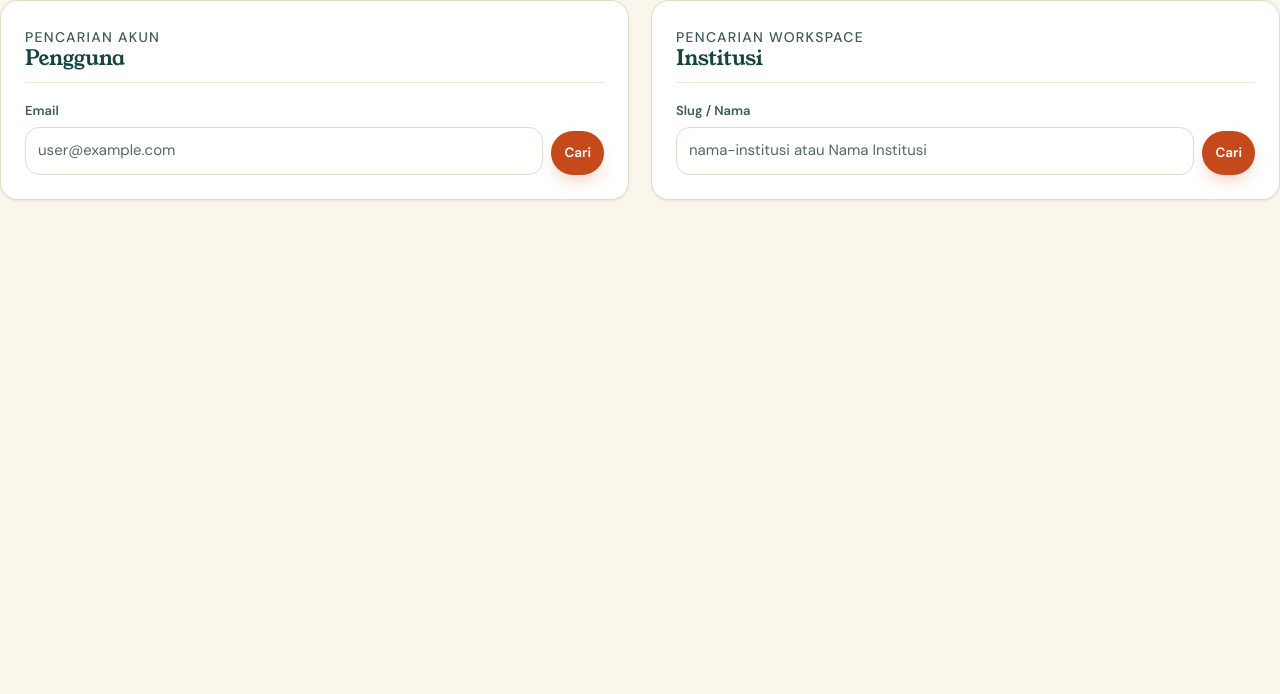
Test: elevating a recruiter to the full tier › names the consequence, then sends the elevation
This screenshot has width=1280, height=694.
Type "target@example.test" into the field labelled "Email" at (284, 151), box top-left (25, 127), bottom-right (543, 175)
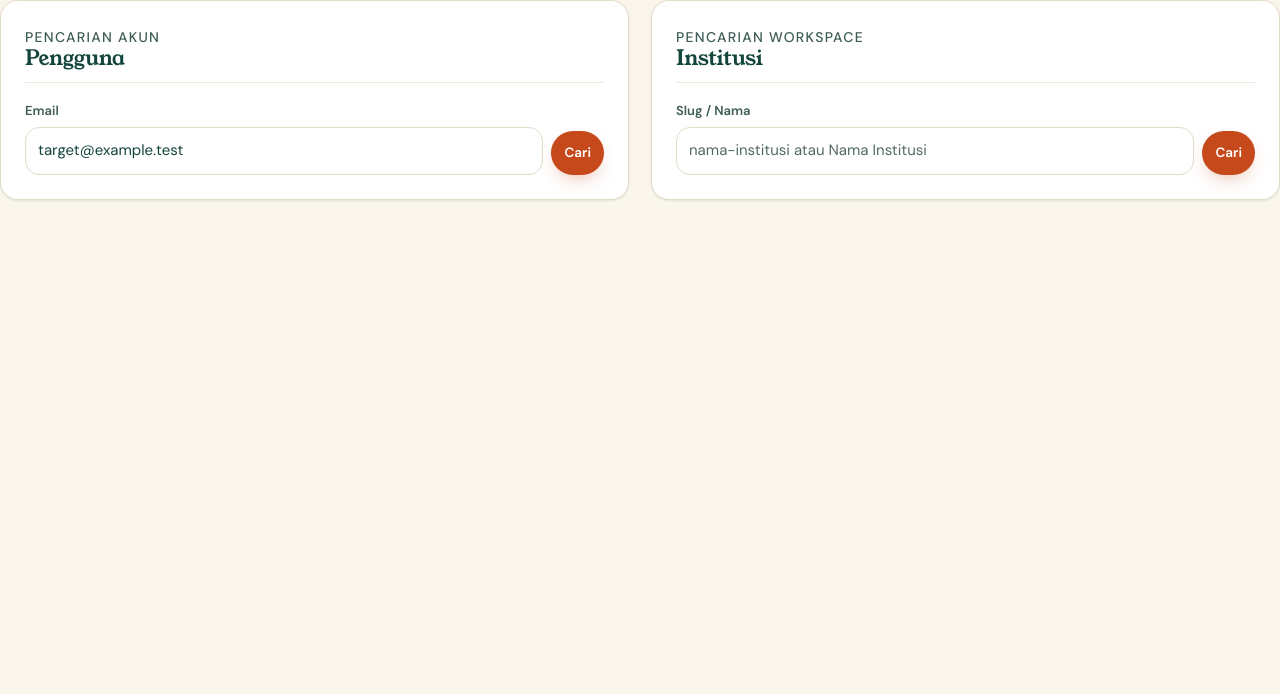
Click the 1st button "Cari" at (578, 153), box top-left (551, 131), bottom-right (604, 175)
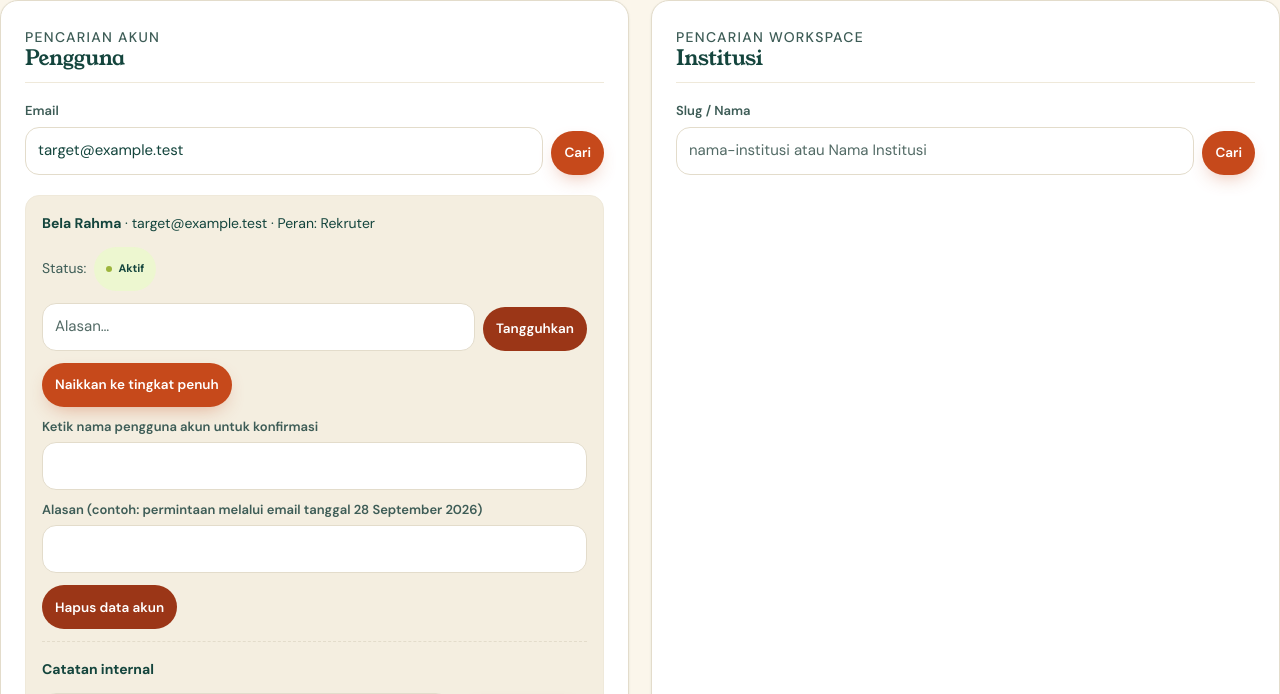
Now the text "Bela Rahma" is shown, box top-left (42, 214), bottom-right (121, 232)
Click the button "Naikkan ke tingkat penuh" at (137, 385), box top-left (42, 363), bottom-right (232, 407)
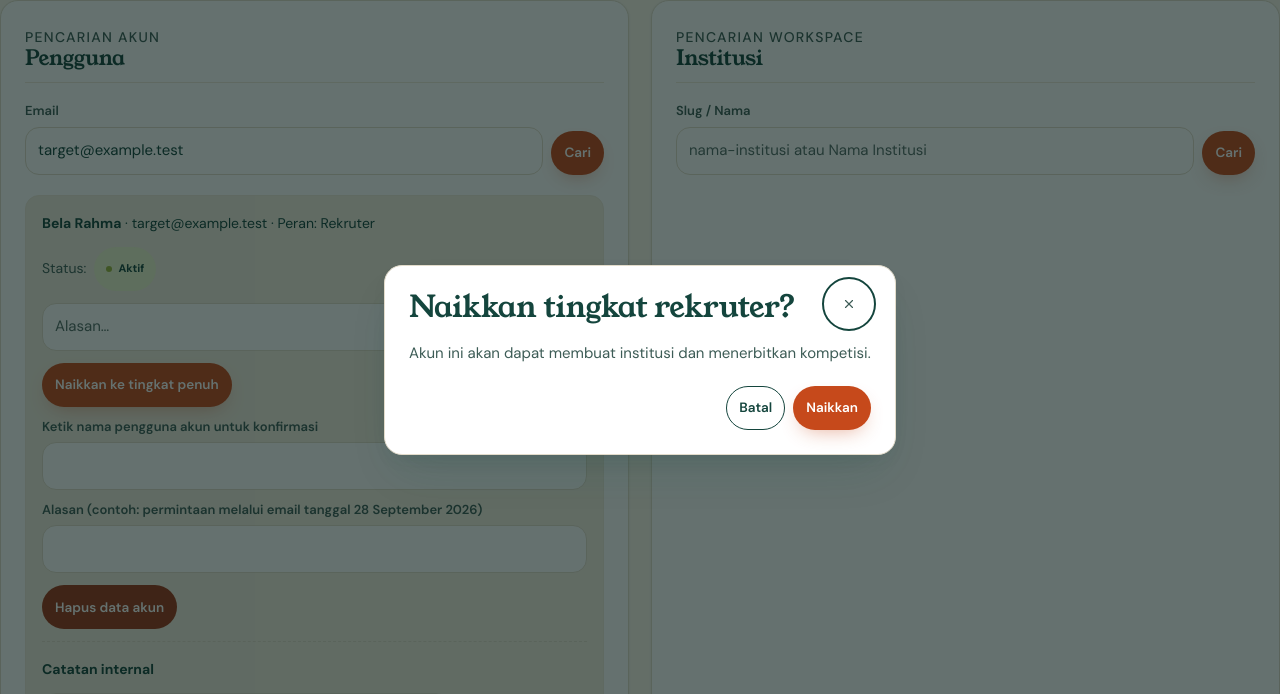
Now the heading "Naikkan tingkat rekruter?" is shown, box top-left (409, 290), bottom-right (795, 325)
Now the text "Akun ini akan dapat membuat institusi dan menerbitkan kompetisi." is shown, box top-left (409, 341), bottom-right (871, 366)
Click the button "Naikkan" at (832, 408), box top-left (793, 386), bottom-right (871, 430)
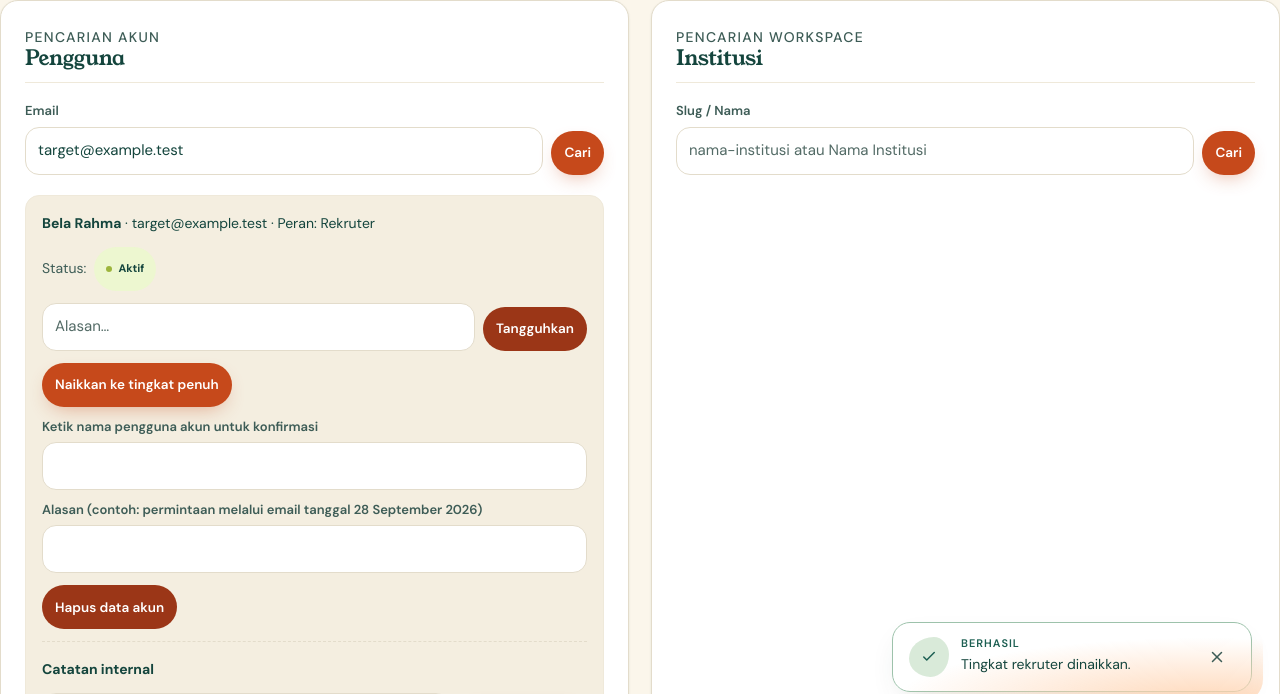
Now the text "Tingkat rekruter dinaikkan." is shown, box top-left (961, 655), bottom-right (1131, 673)
